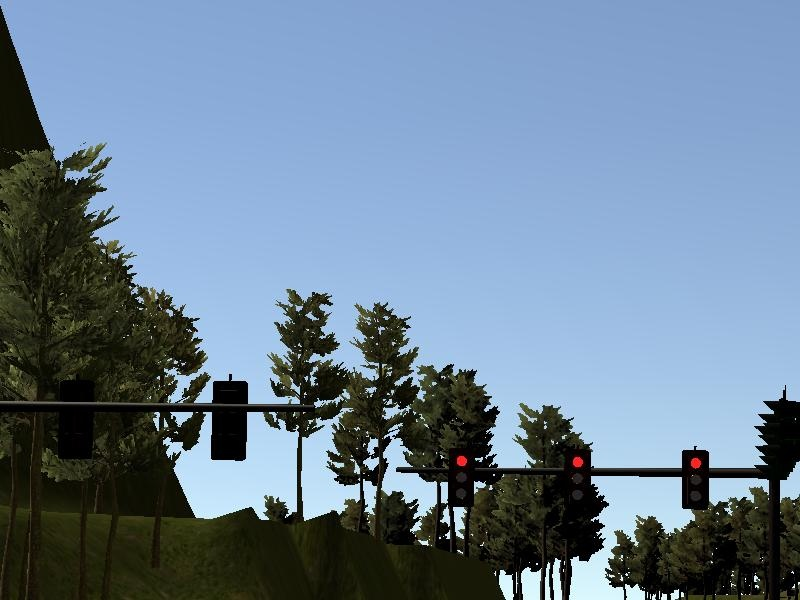red: (681, 449, 709, 510), (563, 446, 591, 507), (447, 447, 475, 508)
